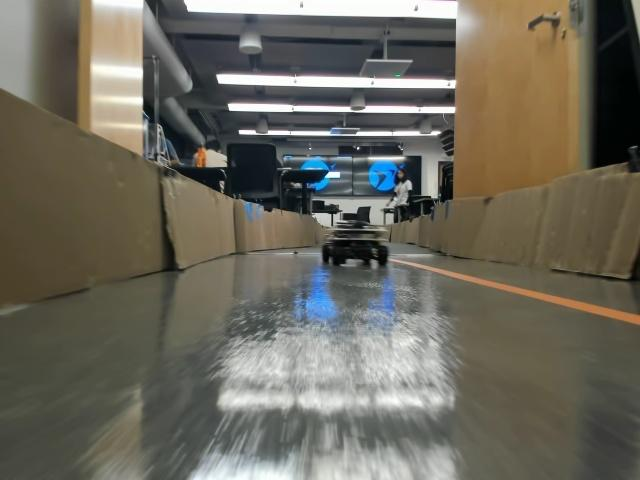Car: (322, 212, 388, 268)
